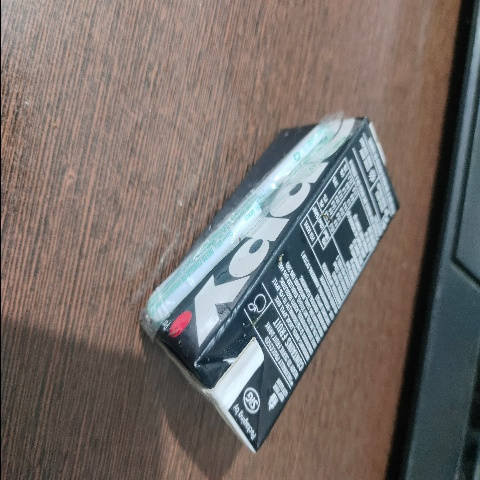appy: (134, 94, 402, 462)
